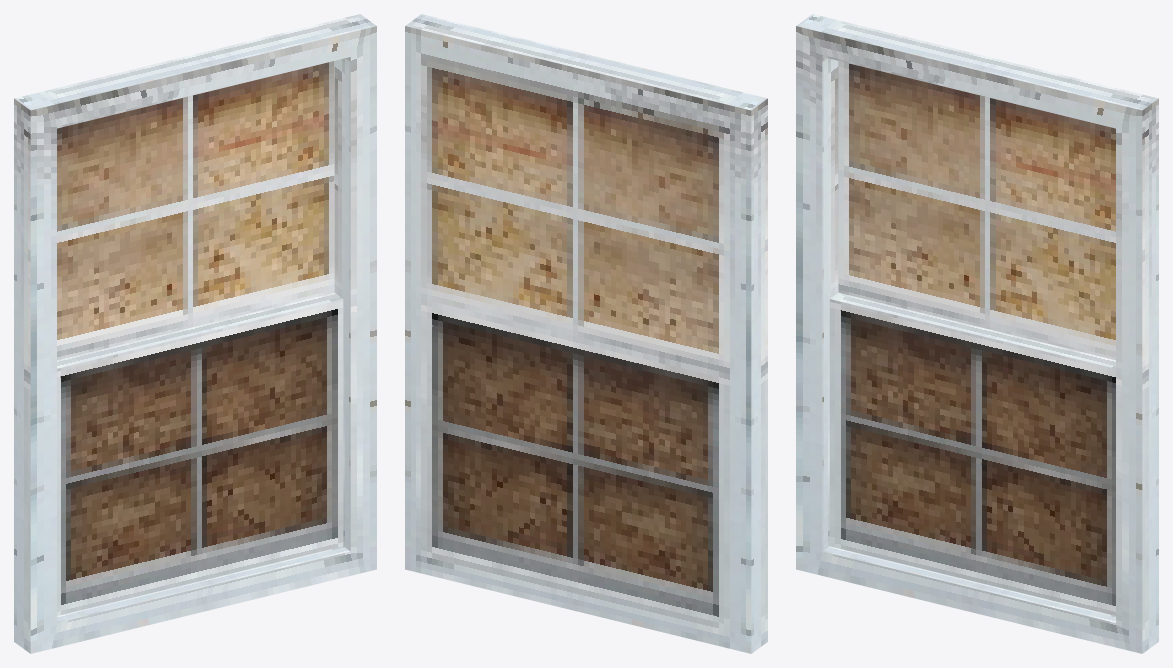
File: window_boarded.glb
The picture shows the model from 3 angles, left to right: view 1: azimuth 30°, elevation 25°; view 2: azimuth 150°, elevation 25°; view 3: azimuth 330°, elevation 25°; orthographic projection.
Visible parts, largest first — view 1: Window_Boarded; view 2: Window_Boarded; view 3: Window_Boarded.
Part boxes in pixels (x1,y1,x2,y2): Window_Boarded: (14,14,376,653); Window_Boarded: (405,14,767,653); Window_Boarded: (796,14,1158,653).
Bounding box in the file's own units: 0.762 × 1.14 × 0.0628.
Materials: 1 (1 with a texture image).
